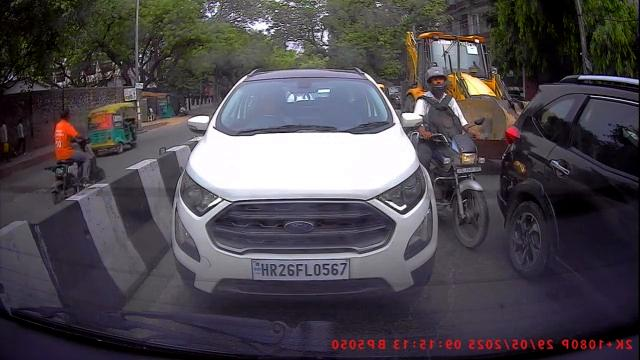motorcycle_with_helmet: (402, 63, 493, 249)
motorcycle_without_helmet: (46, 108, 95, 205)
